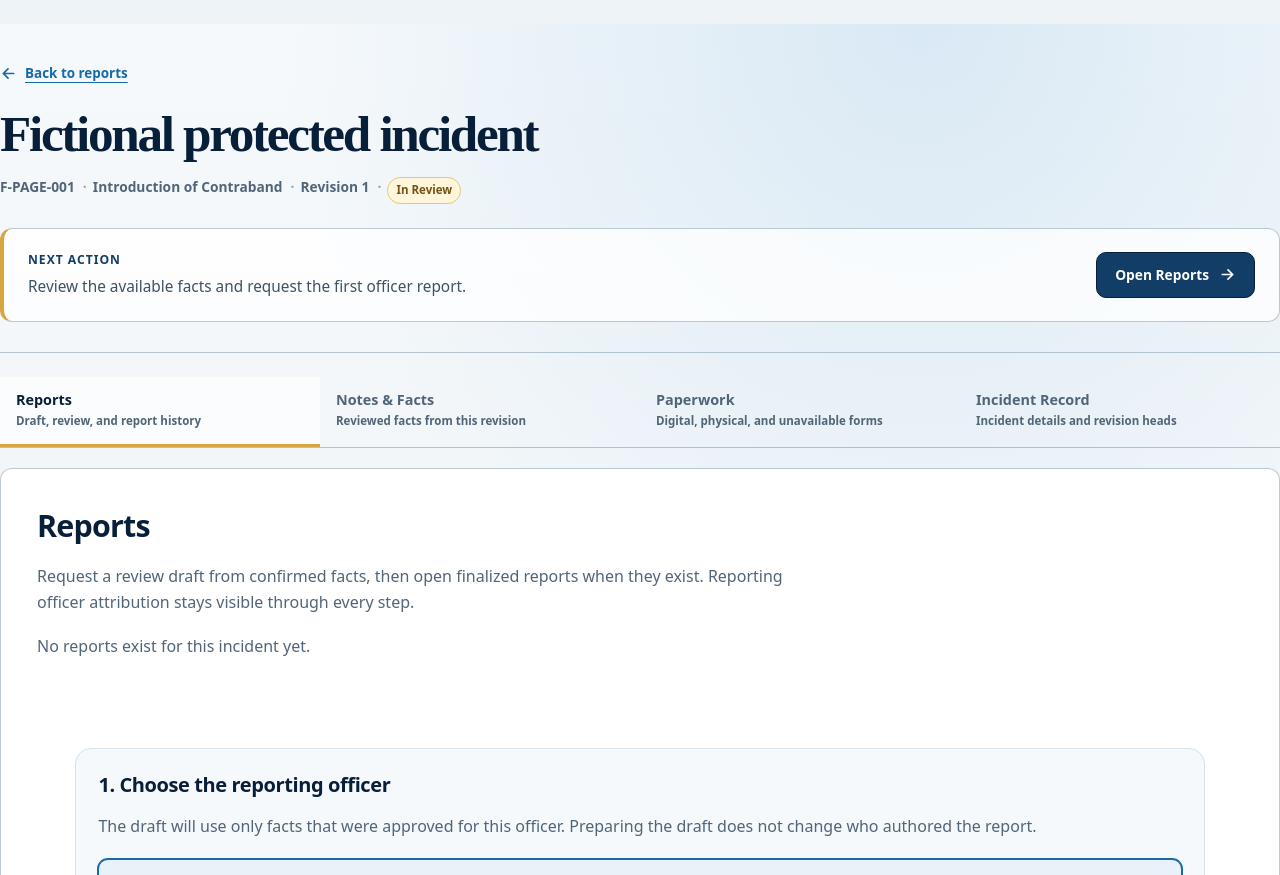
DocumentStudio › groups paperwork by honest digital capability
Click the tab "Paperwork Digital, physical, and unavailable forms" at {"x": 800, "y": 412}, box [640,377,960,447]
(page scrolled)
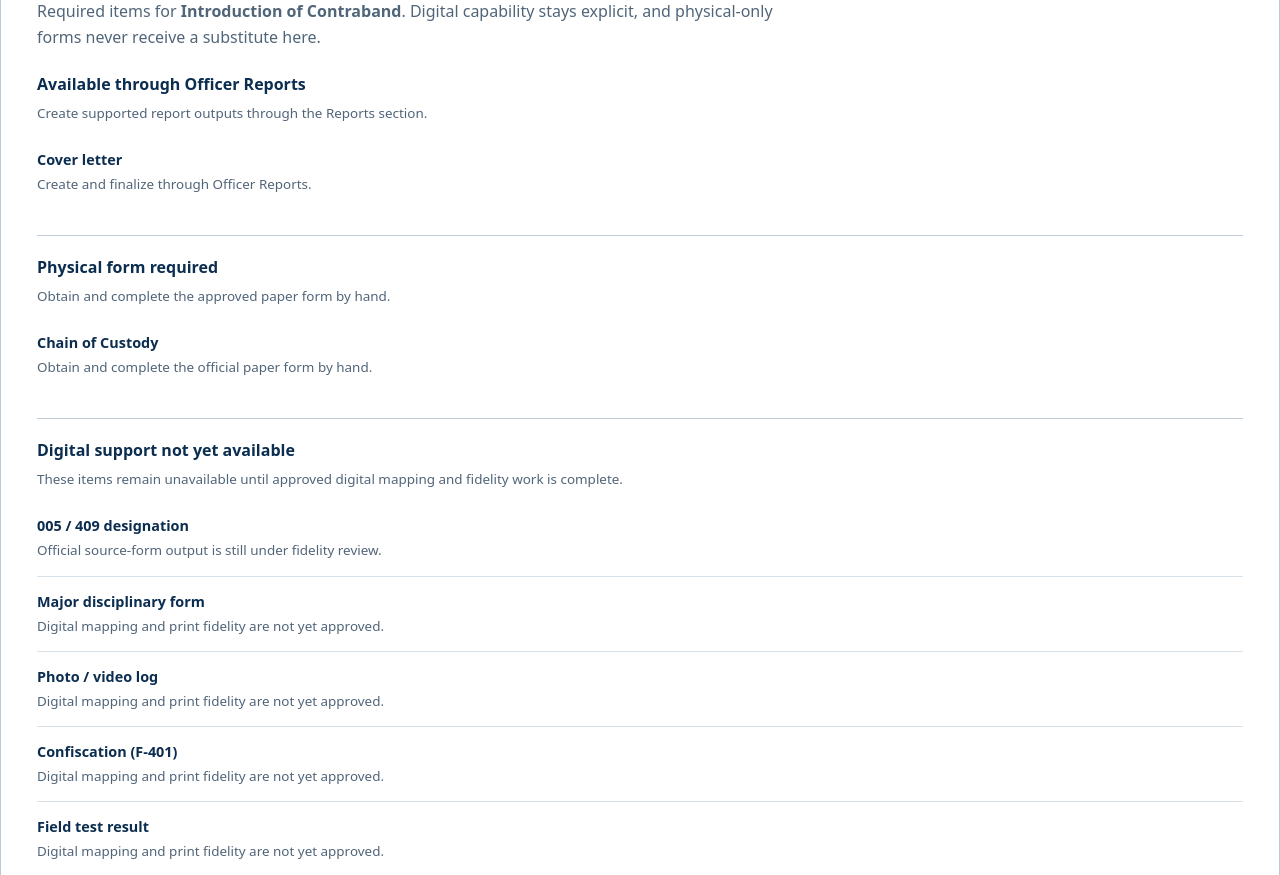
Expected: the heading "Available through Officer Reports" is shown, [37,73,306,95]
Expected: the heading "Physical form required" is shown, [37,256,218,278]
Expected: the heading "Digital support not yet available" is shown, [37,439,295,461]
